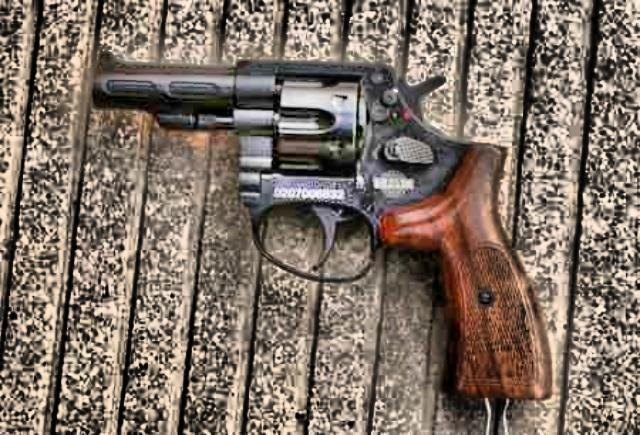pistol: (90, 51, 552, 400)
